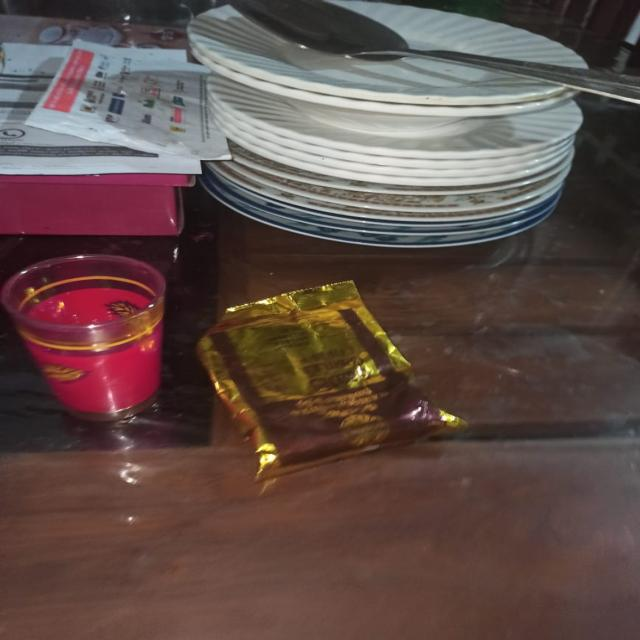Harischandra Coffee: (162, 288, 466, 493)
